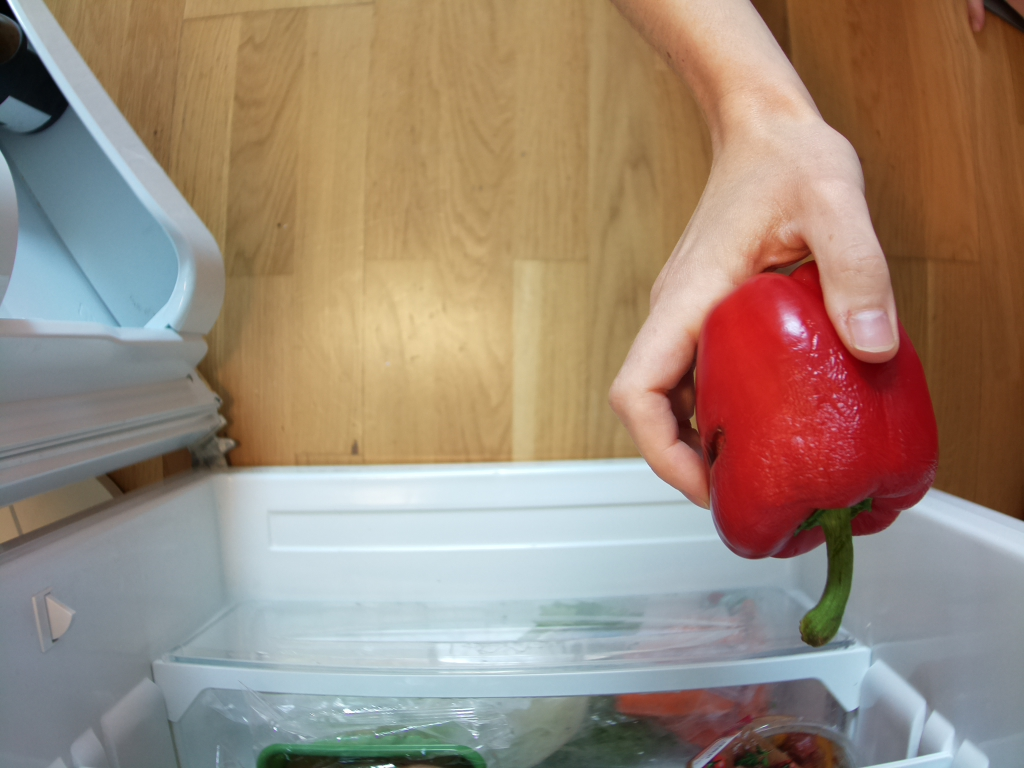pepper-bad: (687, 263, 945, 653)
